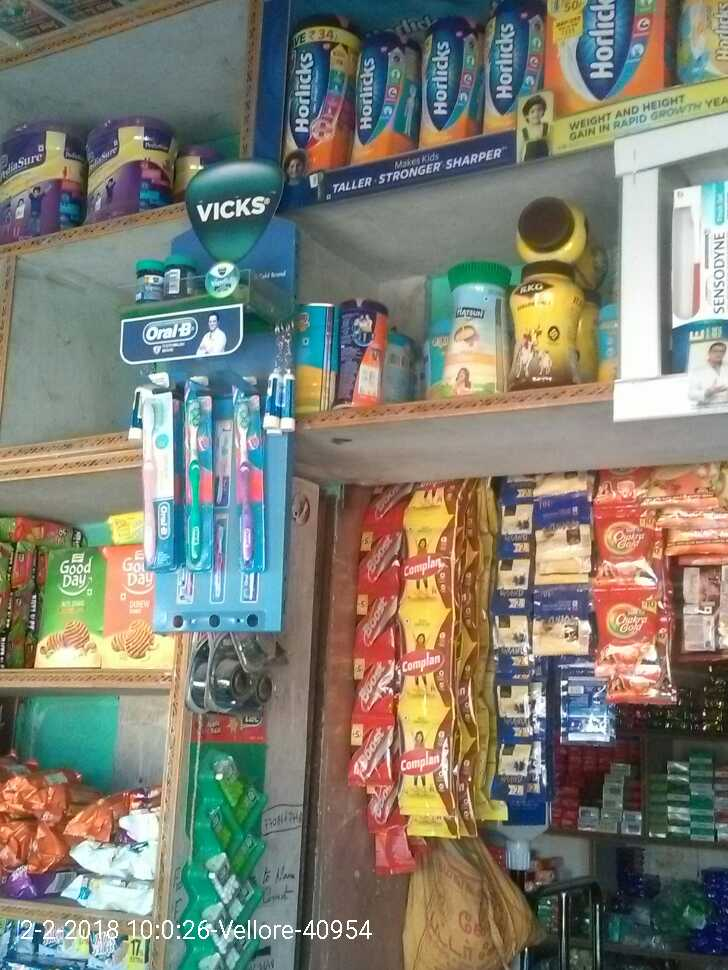pharmacy: (125, 239, 250, 307), (140, 396, 179, 575), (185, 401, 218, 576), (232, 394, 264, 562)
